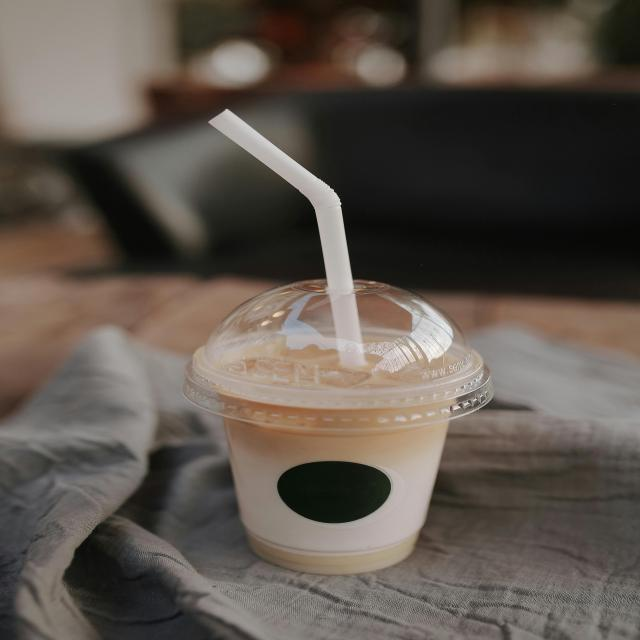cup: (187, 277, 503, 576)
